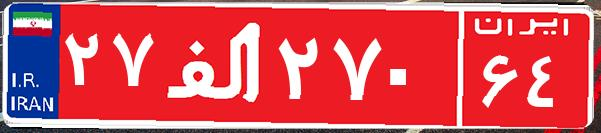0: (385, 28, 445, 110)
2: (273, 28, 330, 110), (57, 26, 110, 107)
4: (525, 38, 570, 115)
6: (475, 38, 525, 113)
7: (330, 28, 385, 110), (110, 28, 158, 105)
الف: (158, 15, 273, 115)
